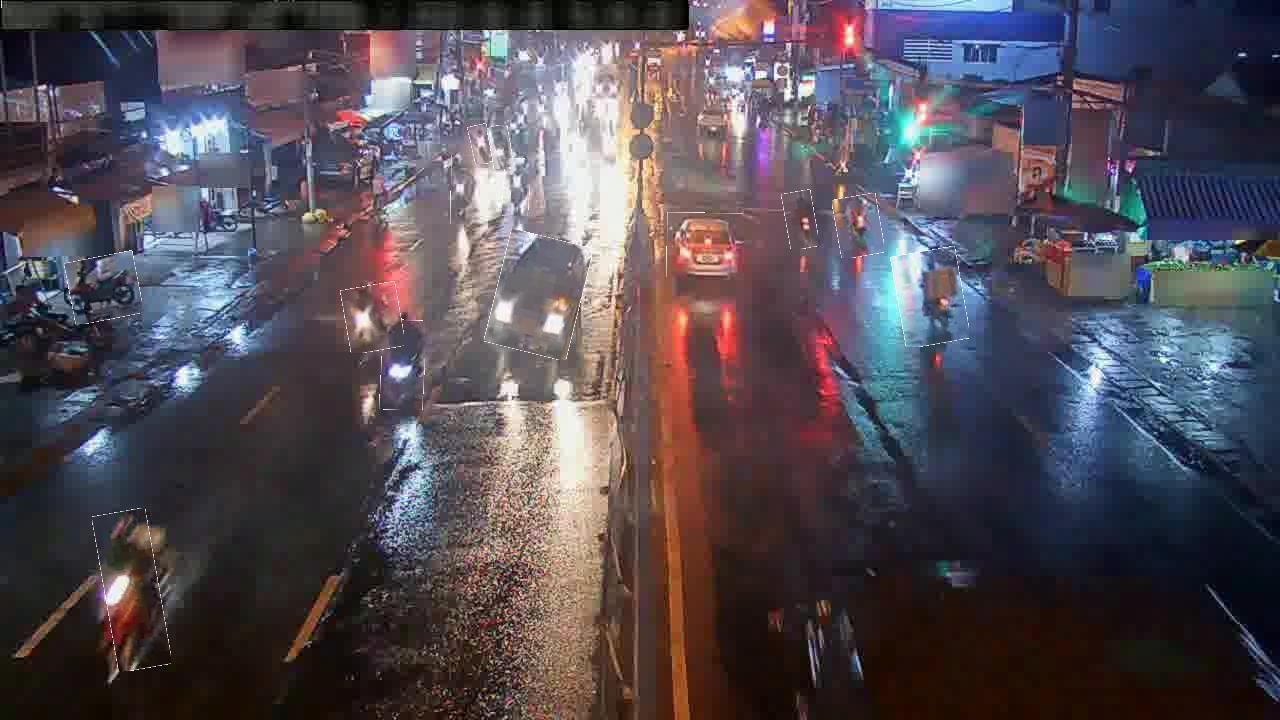container: (491, 233, 587, 357), (667, 213, 744, 278)
motorbike: (98, 510, 166, 671), (894, 249, 967, 346), (67, 253, 141, 322), (343, 283, 403, 352), (380, 320, 425, 411), (835, 194, 883, 258), (784, 190, 817, 249), (503, 159, 531, 217), (451, 155, 472, 225), (489, 126, 513, 170), (469, 124, 492, 165)
